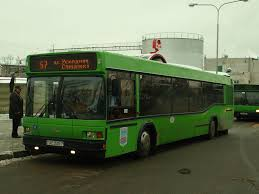bus: (23, 51, 234, 162), (233, 83, 259, 120)
